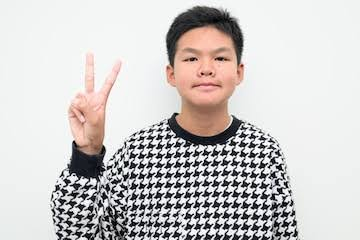peace_sign: (64, 49, 124, 142)
